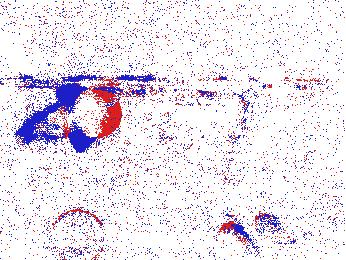flame jellyfish: (14, 88, 121, 152), (212, 212, 298, 260), (49, 210, 108, 260)
